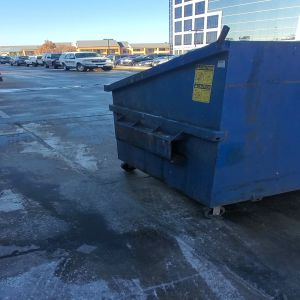Dumpster: (109, 39, 300, 220)
